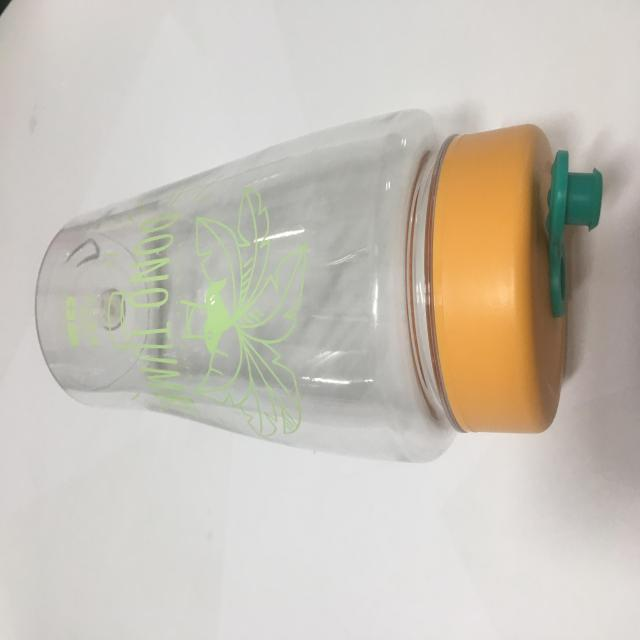bottle: (28, 110, 602, 468)
